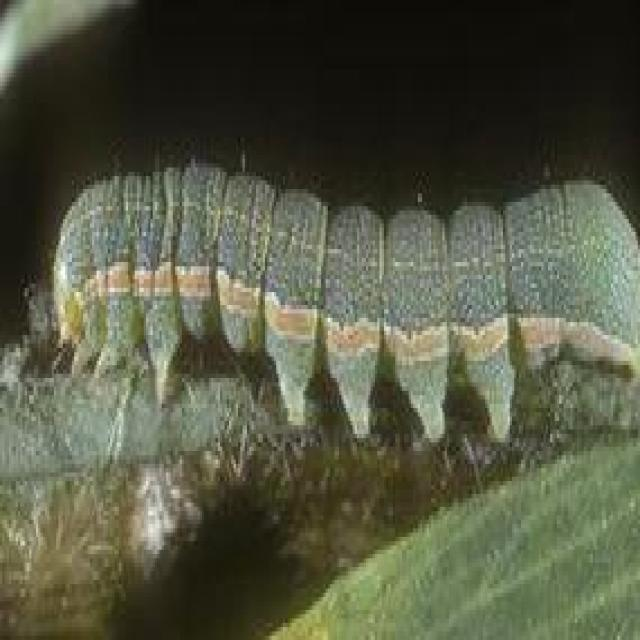BeetArmyWorm-Larva-: (43, 145, 638, 457)
